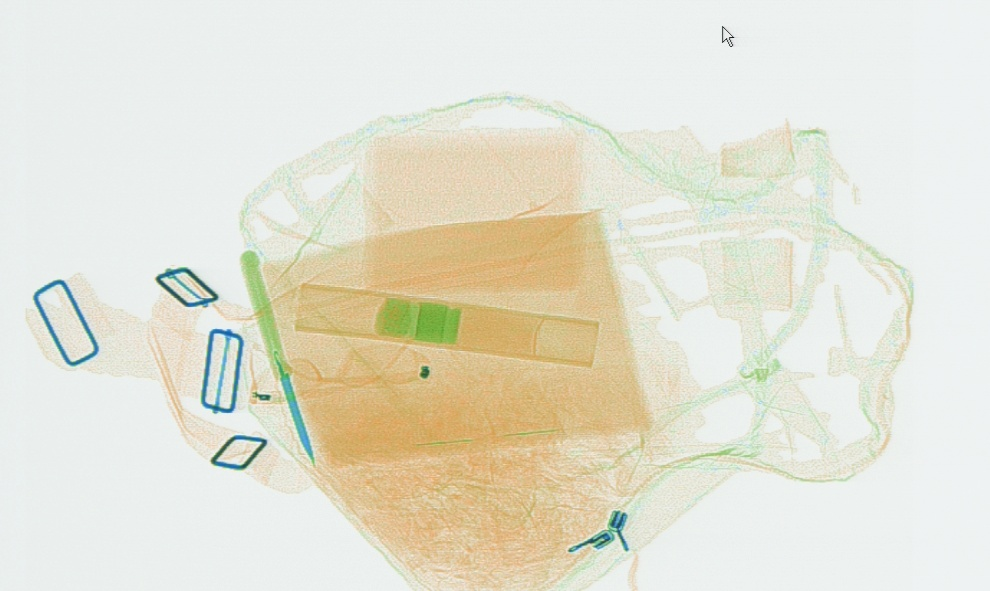firecrackers: (297, 279, 598, 367)
knife: (238, 248, 317, 467)
